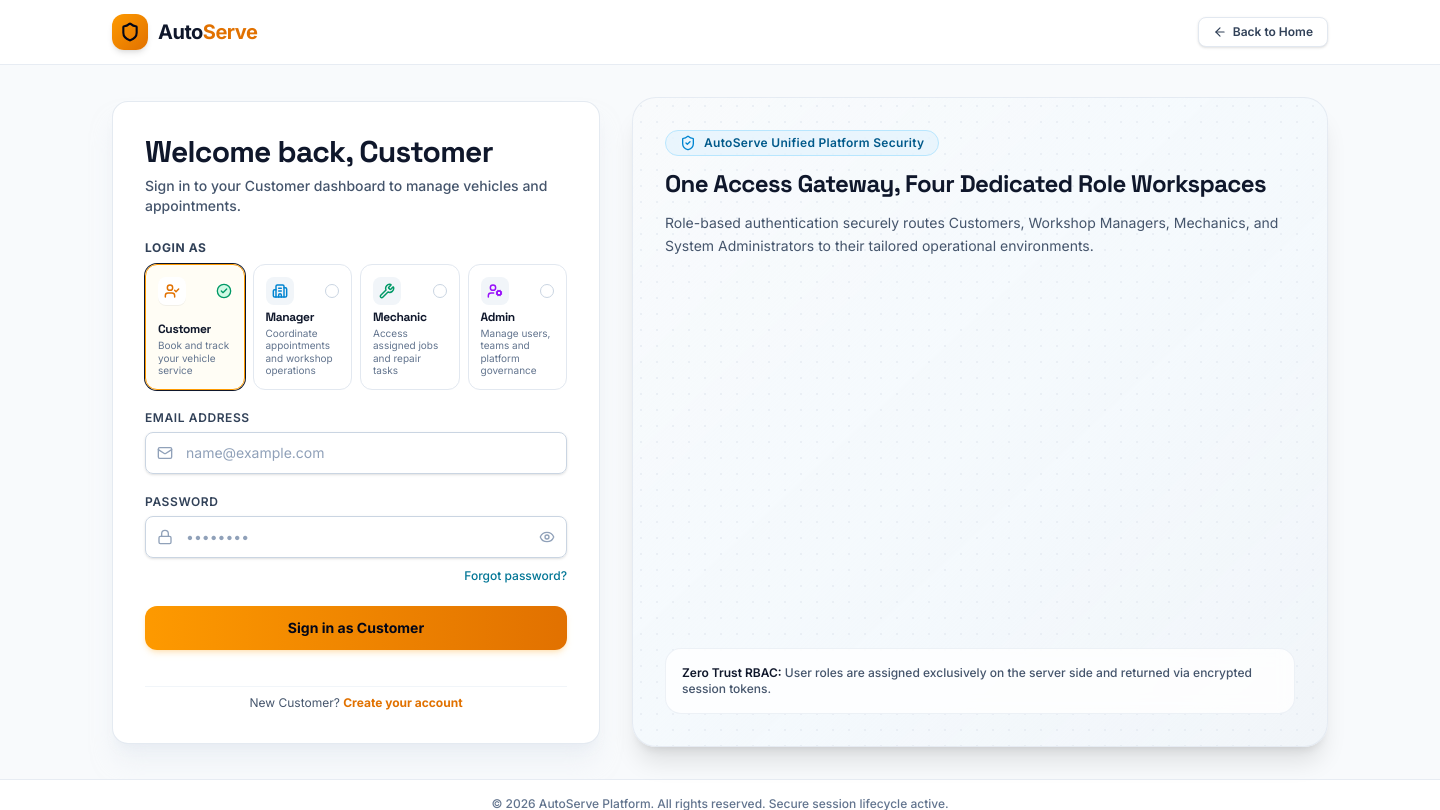
Test: LoginPage Four-Role Selector & Security Tests › 3. Manager role card can be selected by mouse
The image size is (1440, 810).
Click the radio button with aria-label "Manager —". click: (302, 326)
box: [252,264,352,390]
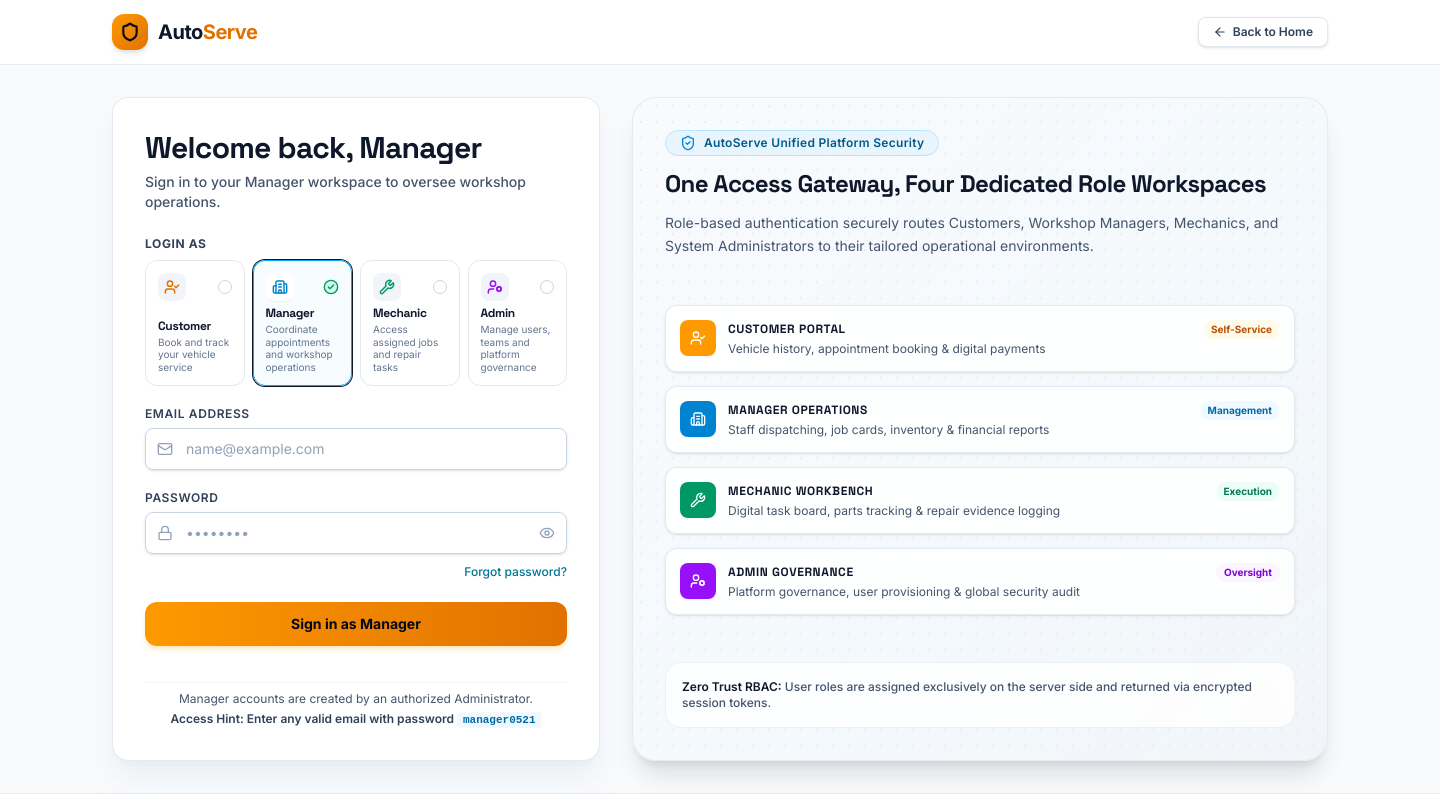
Now the button "Sign in as Manager" is shown, box [145,602,567,646]
